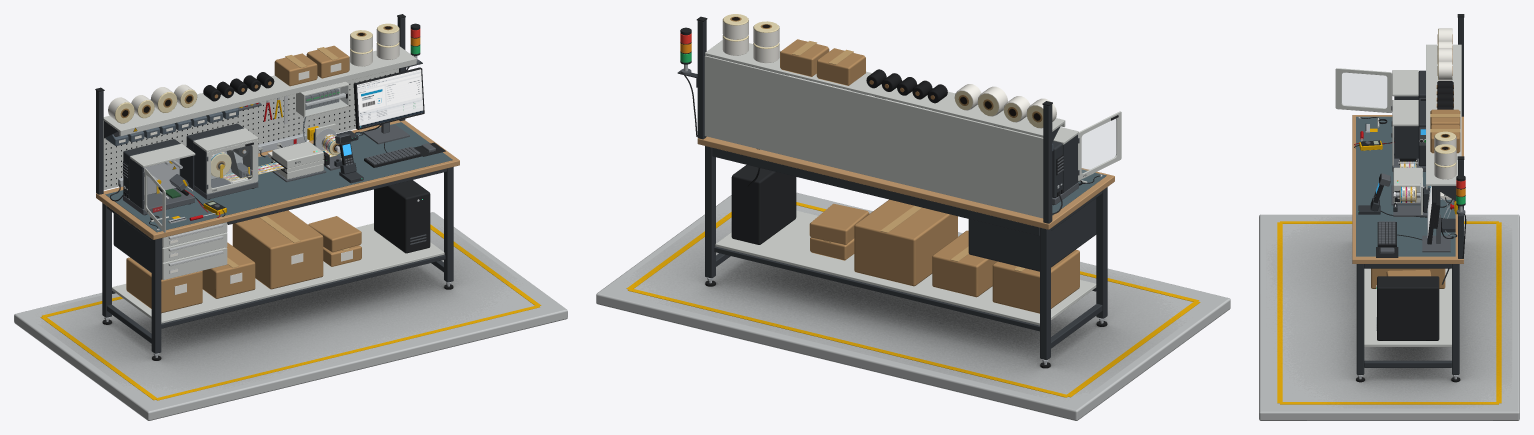
The model's file is rfid.glb.
The picture shows the model from 3 angles, left to right: view 1: azimuth 30°, elevation 25°; view 2: azimuth 150°, elevation 25°; view 3: azimuth 270°, elevation 25°; orthographic projection. The views are drawn at different scales.
Visible parts, largest first — view 1: socle, reserve_carton_ondule, panneau_tole_gris_clair, etabli_tole_anthracite, etabli_tole_gris_clair, tapis, poste_plastique_noir, plateau, ecran_ihm, reparation_tole_anthracite, antenne_tole_gris_clair, imp1_vitre (+17 smaller); view 2: socle, panneau_tole_gris_clair, reserve_carton_ondule, etabli_tole_anthracite, etabli_tole_gris_clair, plateau, poste_plastique_noir, panneau_tole_anthracite, imp2_vitre, reserve_ruban_transfert, reparation_tole_anthracite, imp2_capot_flanc (+4 smaller); view 3: socle, tapis, poste_plastique_noir, etabli_tole_anthracite, panneau_tole_gris_clair, etabli_tole_gris_clair, plateau, reserve_carton_ondule, imp2_vitre, imprimante_tole_anthracite, poste_graphite, imp2_capot_flanc (+13 smaller).
Boxes of the visible parts, x1=… form: socle: x1=14, y1=212, x2=567, y2=420; reserve_carton_ondule: x1=126, y1=45, x2=361, y2=313; panneau_tole_gris_clair: x1=103, y1=46, x2=416, y2=189; etabli_tole_anthracite: x1=102, y1=167, x2=453, y2=353; etabli_tole_gris_clair: x1=112, y1=222, x2=444, y2=323; tapis: x1=105, y1=122, x2=452, y2=232; poste_plastique_noir: x1=351, y1=67, x2=445, y2=253; plateau: x1=96, y1=120, x2=459, y2=239; ecran_ihm: x1=357, y1=69, x2=423, y2=128; reparation_tole_anthracite: x1=123, y1=139, x2=194, y2=212; antenne_tole_gris_clair: x1=271, y1=141, x2=324, y2=179; imp1_vitre: x1=211, y1=145, x2=251, y2=187; socle: x1=596, y1=192, x2=1230, y2=420; panneau_tole_gris_clair: x1=704, y1=40, x2=1065, y2=218; reserve_carton_ondule: x1=780, y1=39, x2=1079, y2=313; etabli_tole_anthracite: x1=705, y1=146, x2=1107, y2=359; etabli_tole_gris_clair: x1=715, y1=210, x2=1096, y2=325; plateau: x1=697, y1=136, x2=1114, y2=229; poste_plastique_noir: x1=718, y1=58, x2=796, y2=244; panneau_tole_anthracite: x1=697, y1=20, x2=1060, y2=223; imp2_vitre: x1=1082, y1=119, x2=1116, y2=173; reserve_ruban_transfert: x1=866, y1=69, x2=947, y2=103; reparation_tole_anthracite: x1=1052, y1=134, x2=1086, y2=197; imp2_capot_flanc: x1=1078, y1=111, x2=1121, y2=180; socle: x1=1259, y1=214, x2=1519, y2=420; tapis: x1=1356, y1=116, x2=1455, y2=256; poste_plastique_noir: x1=1376, y1=187, x2=1457, y2=340; etabli_tole_anthracite: x1=1356, y1=264, x2=1459, y2=374; panneau_tole_gris_clair: x1=1426, y1=44, x2=1461, y2=189; etabli_tole_gris_clair: x1=1364, y1=268, x2=1451, y2=346; plateau: x1=1352, y1=115, x2=1463, y2=263; reserve_carton_ondule: x1=1371, y1=109, x2=1460, y2=288; imp2_vitre: x1=1342, y1=73, x2=1386, y2=108; imprimante_tole_anthracite: x1=1394, y1=100, x2=1425, y2=166; poste_graphite: x1=1376, y1=214, x2=1450, y2=330; imp2_capot_flanc: x1=1335, y1=68, x2=1392, y2=112.
Size of the model in its own units: 3.15 by 1.74 by 1.75.
Materials: 39 (6 with a texture image).
